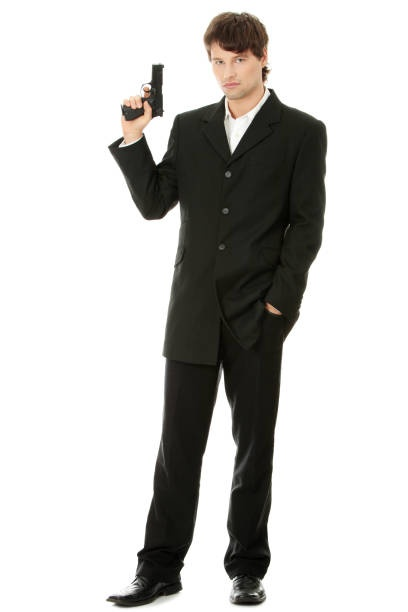gun: (120, 61, 167, 125)
person: (114, 8, 327, 612)
